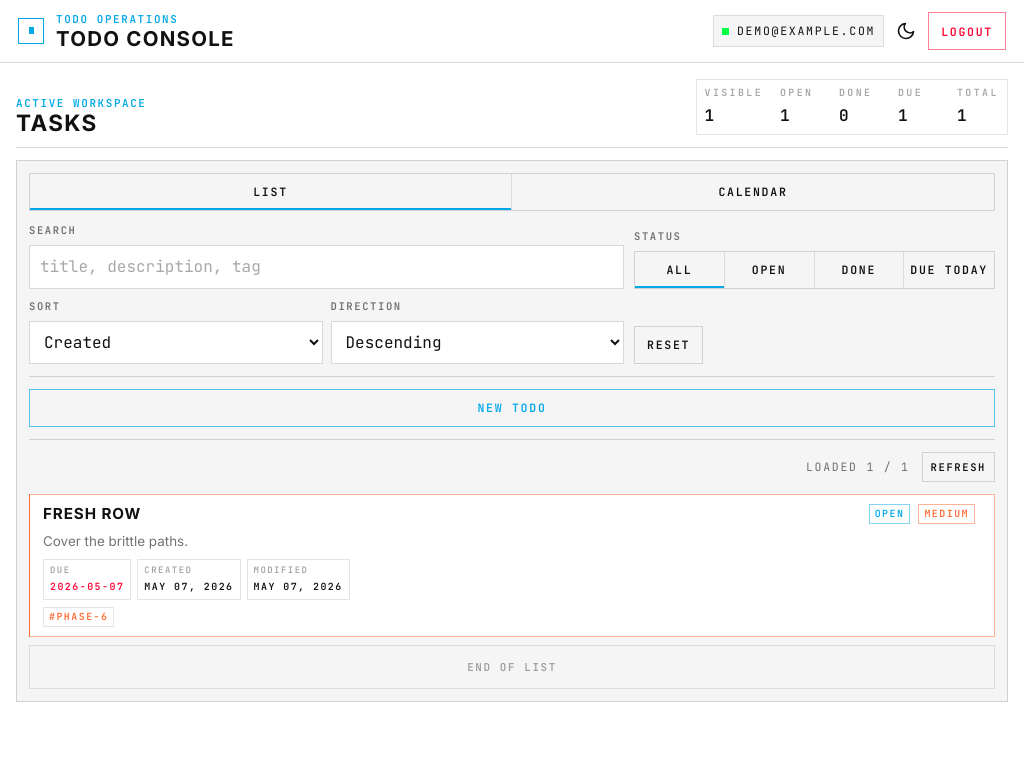
Test: todos UI › Toggle409_RefetchesTodo_AndShowsRecoveryMessage
The width and height of the screenshot is (1024, 768).
Expected: the heading "Fresh row" is shown, [43,504,141,523]
What coordinates should you click on to do the following:
click the list item
I would click on:
 (512, 566)
Its box is [29,494,995,638].
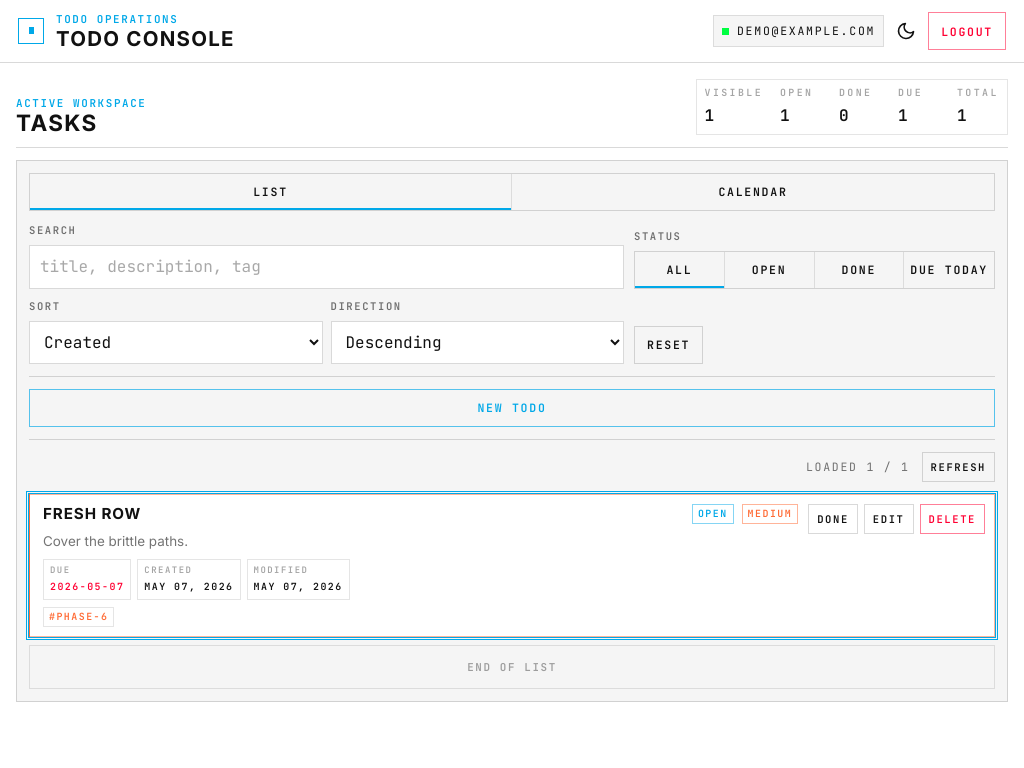
What coordinates should you click on to do the following:
click the button "Done"
I would click on:
 (833, 519)
Its box is [808,504,858,534].
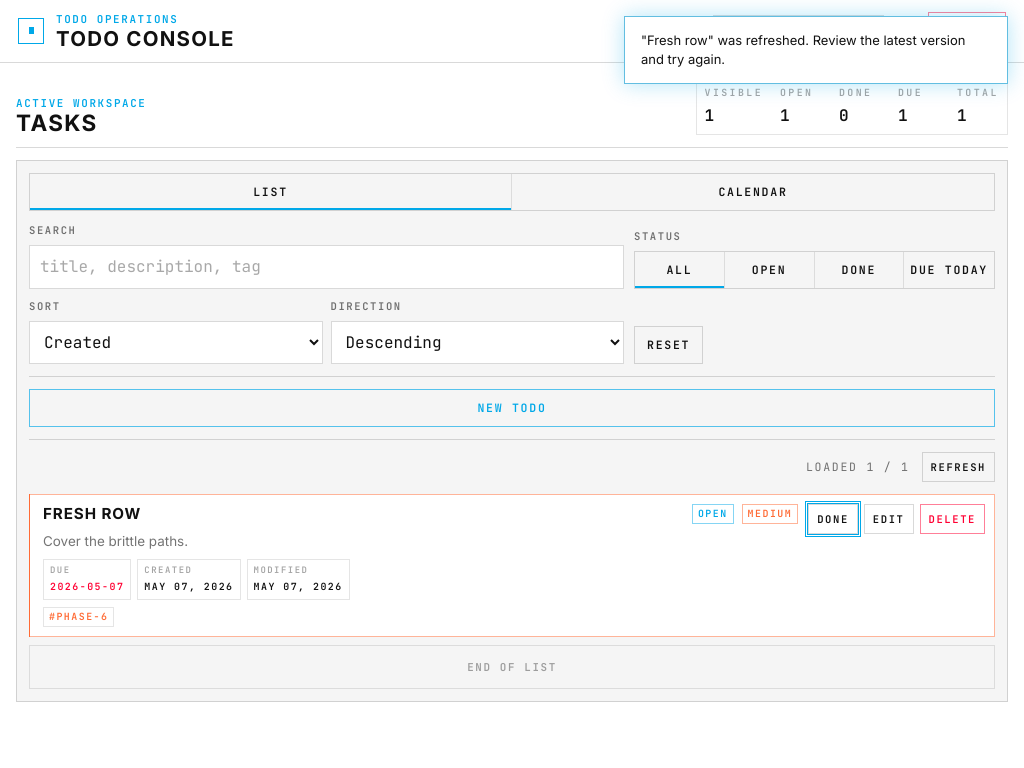
Expected: the text "\"Fresh row\" was refreshed. Review the latest version and try again." is shown, [624,16,1008,84]
